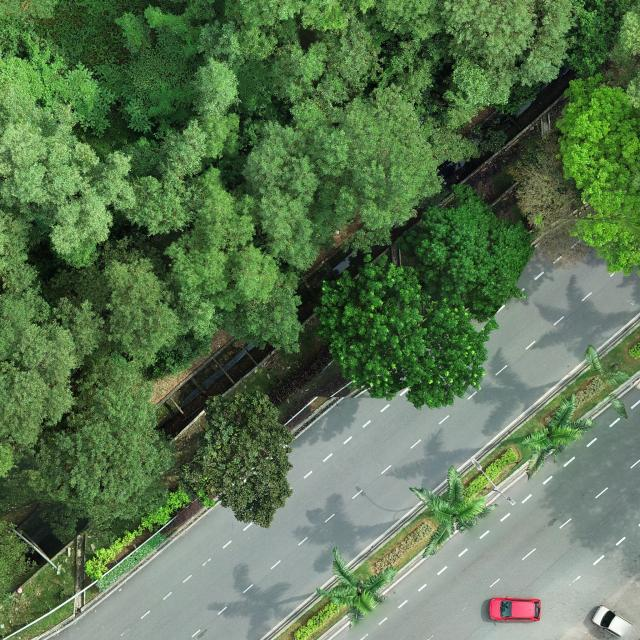tree: (0, 98, 211, 253), (19, 348, 179, 546), (312, 253, 499, 411), (163, 164, 303, 354), (316, 82, 446, 230), (554, 72, 640, 278), (413, 182, 534, 324), (194, 388, 296, 528), (242, 119, 333, 271), (506, 133, 593, 270), (45, 233, 158, 315), (408, 464, 499, 558), (105, 258, 181, 368), (314, 546, 398, 630), (520, 393, 596, 482), (566, 0, 633, 78), (582, 344, 632, 420), (189, 59, 241, 120), (199, 114, 243, 160), (494, 80, 543, 116), (339, 226, 394, 258), (470, 117, 508, 156)
